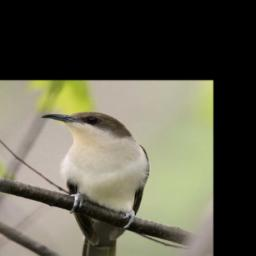Cuckoo: (40, 111, 150, 256)
